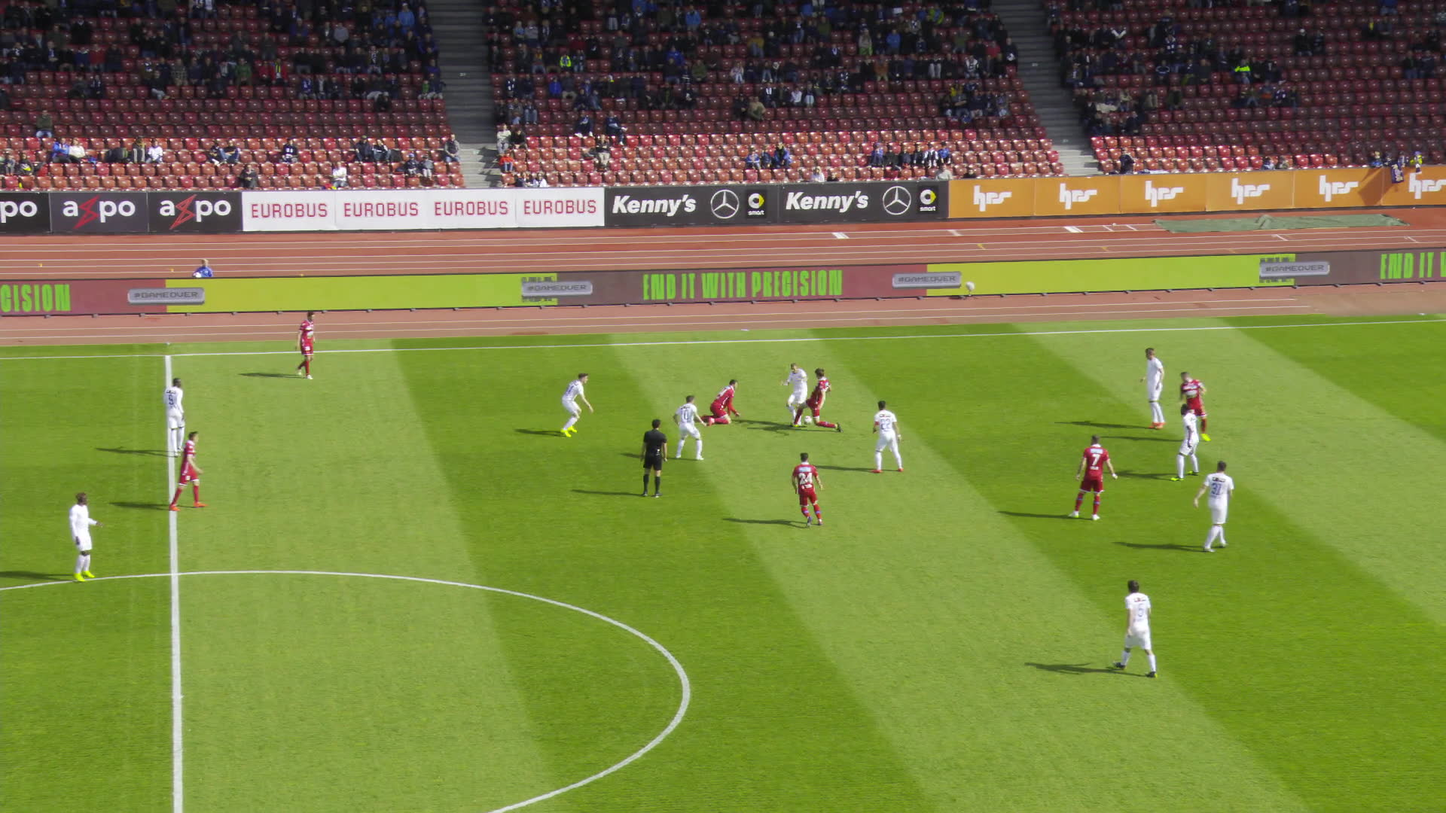ball: (799, 418, 807, 426)
player: (1106, 577, 1158, 677), (1067, 434, 1115, 522), (1191, 461, 1233, 552), (793, 365, 843, 434), (63, 492, 101, 580), (789, 449, 826, 530), (866, 399, 903, 473), (169, 430, 198, 512), (670, 391, 703, 463), (163, 376, 193, 455), (1136, 346, 1164, 429), (1168, 404, 1198, 480), (692, 380, 739, 427), (560, 373, 593, 437), (290, 309, 318, 379), (782, 364, 811, 422), (1175, 372, 1206, 425)
referee: (643, 419, 667, 498)
